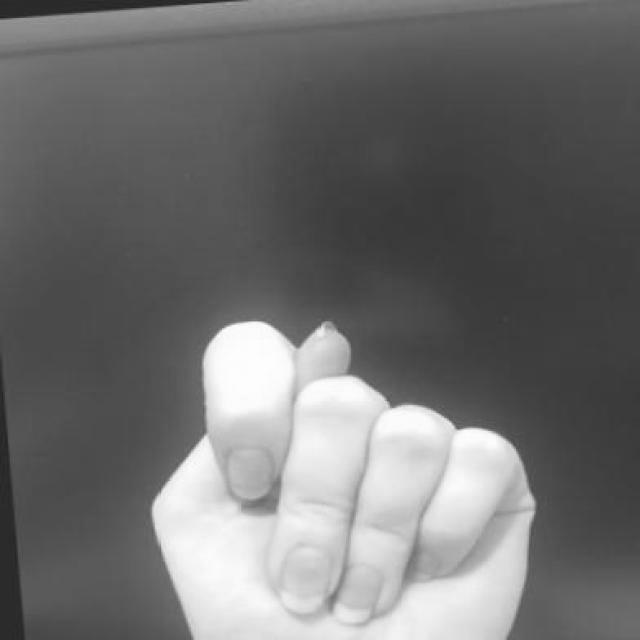T: (124, 293, 558, 639)
